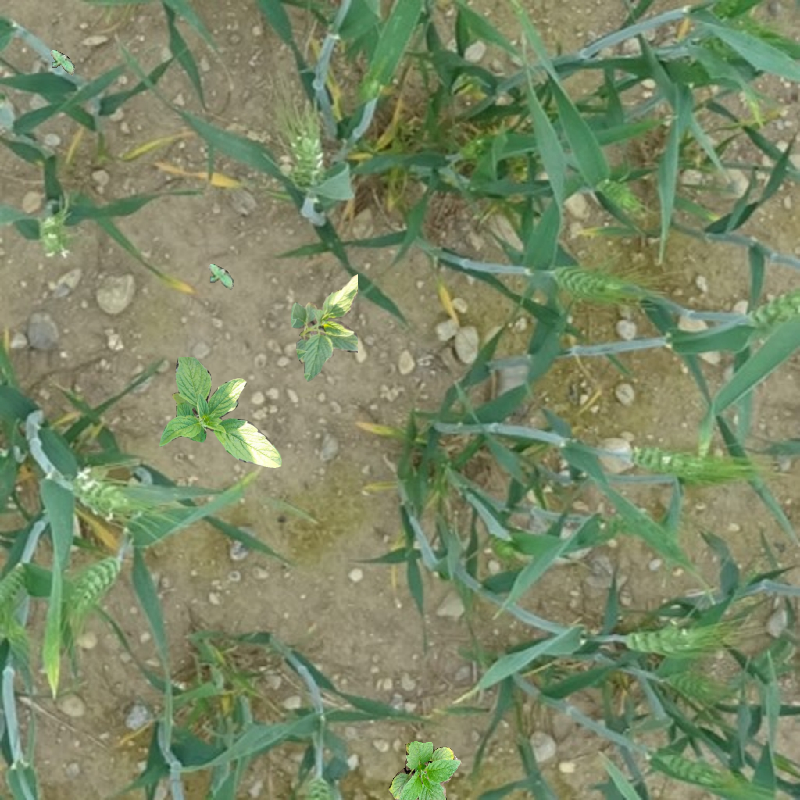spikelet: (629, 445, 732, 485), (64, 550, 123, 610), (549, 262, 628, 306), (660, 751, 738, 795), (68, 467, 132, 520), (734, 288, 799, 340), (664, 665, 731, 706), (623, 621, 695, 654), (293, 127, 326, 188), (1, 564, 33, 624), (40, 213, 70, 262), (601, 177, 640, 210)
weed: (159, 357, 282, 468), (291, 274, 358, 382), (387, 741, 462, 800), (208, 264, 234, 291), (50, 50, 75, 76)
